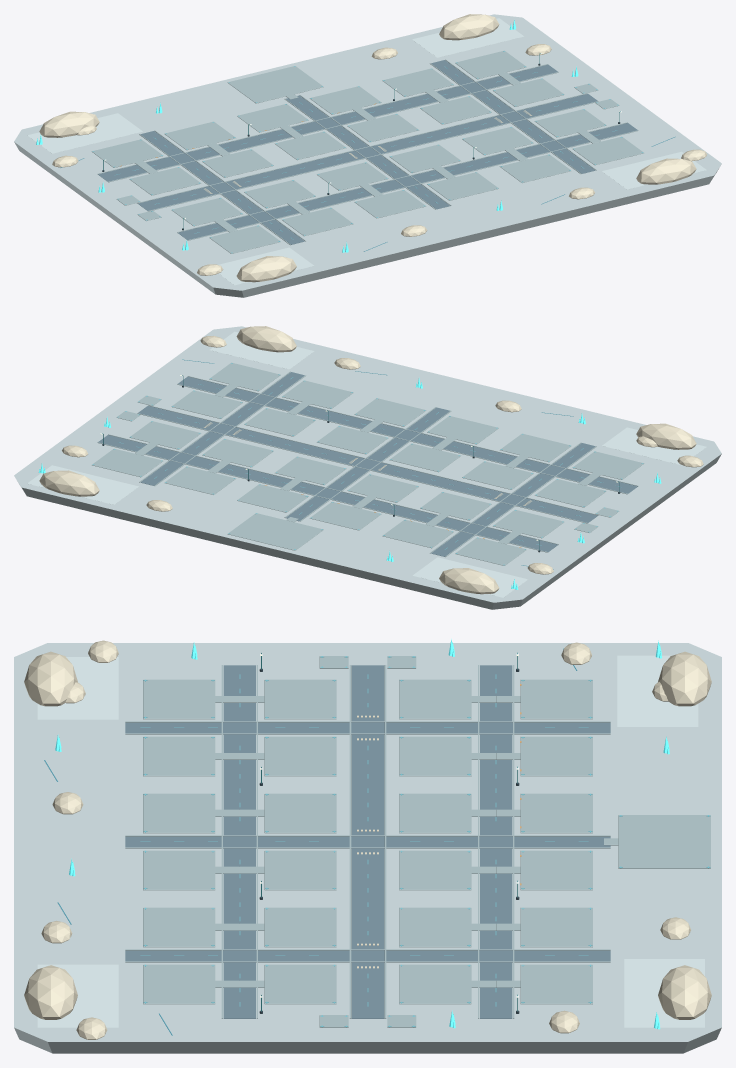
File: ground.glb
3 renders of one model, top to bottom at view 1: azimuth 30°, elevation 25°; view 2: azimuth 150°, elevation 25°; view 3: azimuth 270°, elevation 25°, orthographic. The views are drawn at different scales.
Visible parts, largest first — view 1: planet_ice__Terrain, planet_ice__Roads, planet_ice__Decoration; view 2: planet_ice__Terrain, planet_ice__Roads, planet_ice__Decoration; view 3: planet_ice__Terrain, planet_ice__Roads, planet_ice__Decoration.
Boxes of the visible parts, x1,y1,x2,y2 form: planet_ice__Terrain: [14, 14, 721, 297]; planet_ice__Roads: [91, 50, 643, 253]; planet_ice__Decoration: [36, 14, 707, 282]; planet_ice__Terrain: [14, 326, 721, 609]; planet_ice__Roads: [92, 362, 644, 565]; planet_ice__Decoration: [38, 326, 703, 594]; planet_ice__Terrain: [14, 643, 721, 1053]; planet_ice__Roads: [125, 656, 710, 1027]; planet_ice__Decoration: [24, 639, 711, 1039].
Bounding box in the file's own units: 140 × 6.8 × 105.
